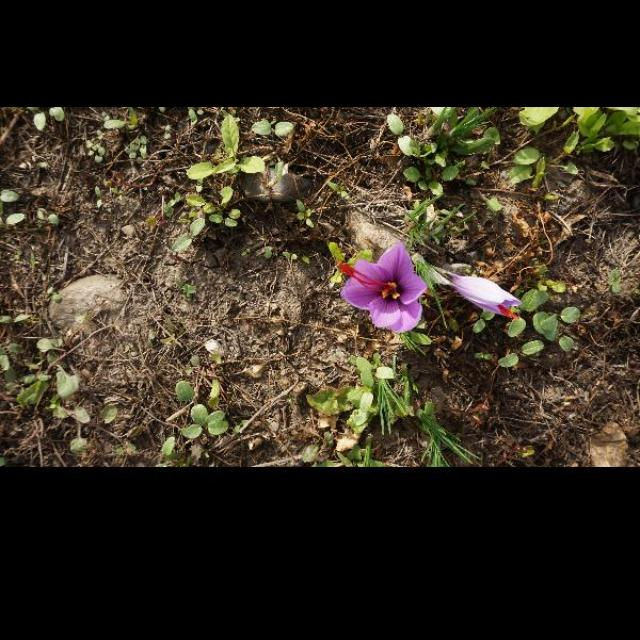flower: (338, 240, 429, 334), (450, 276, 522, 322)
